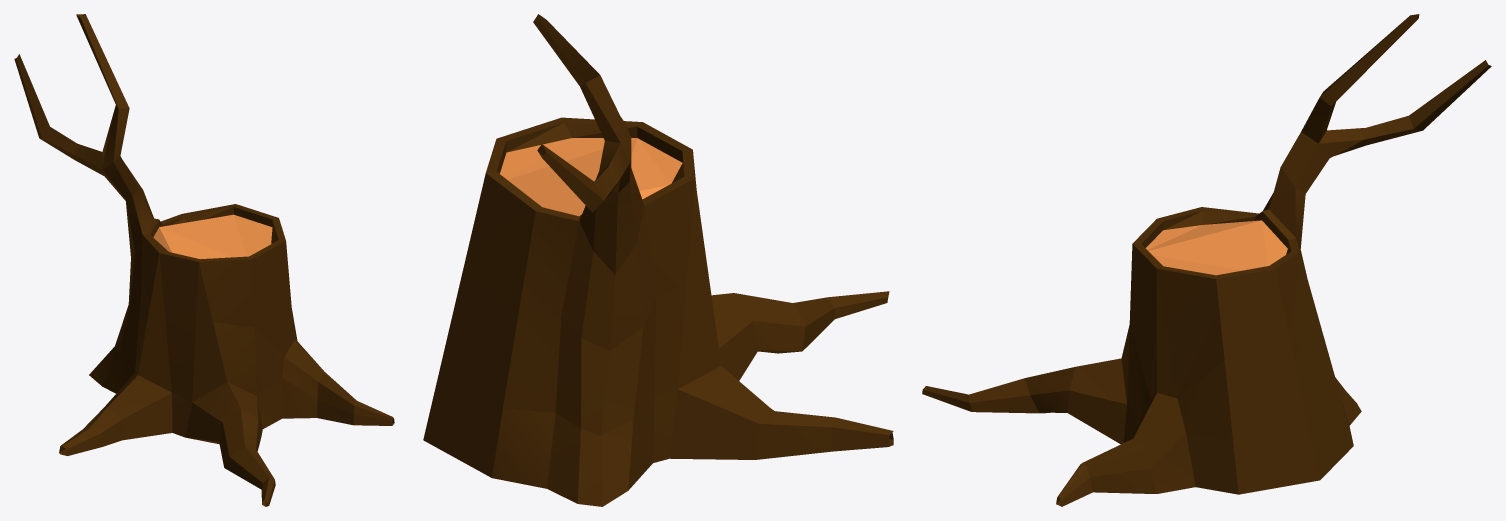
File: TreeCut1.fbx
3 views of the same model, side by side, from view 1: azimuth 30°, elevation 25°; view 2: azimuth 150°, elevation 25°; view 3: azimuth 270°, elevation 25° (orthographic). The views are drawn at different scales.
Parts seen in each view (by area): view 1: DeadTree004; view 2: DeadTree004; view 3: DeadTree004.
Part boxes in pixels (x1,y1,x2,y2): DeadTree004: (14, 14, 394, 506); DeadTree004: (423, 14, 893, 506); DeadTree004: (922, 14, 1491, 506).
Size of the model in its own units: 54.41 by 60.76 by 78.35.
